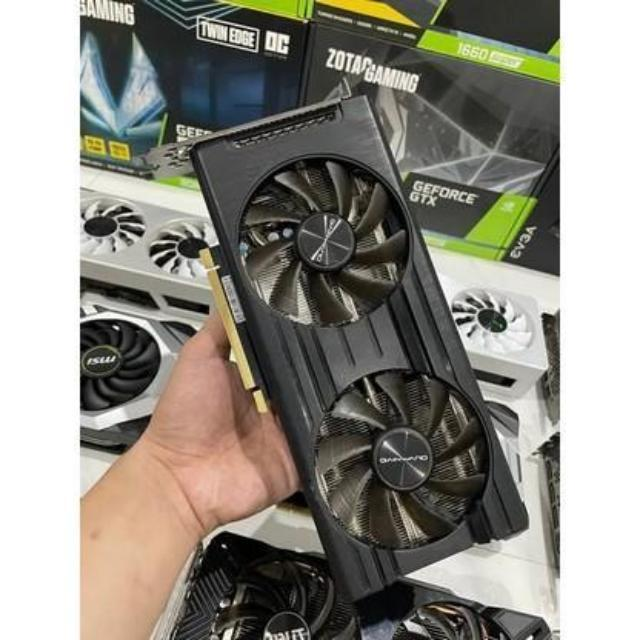GPU: (194, 90, 528, 608)
